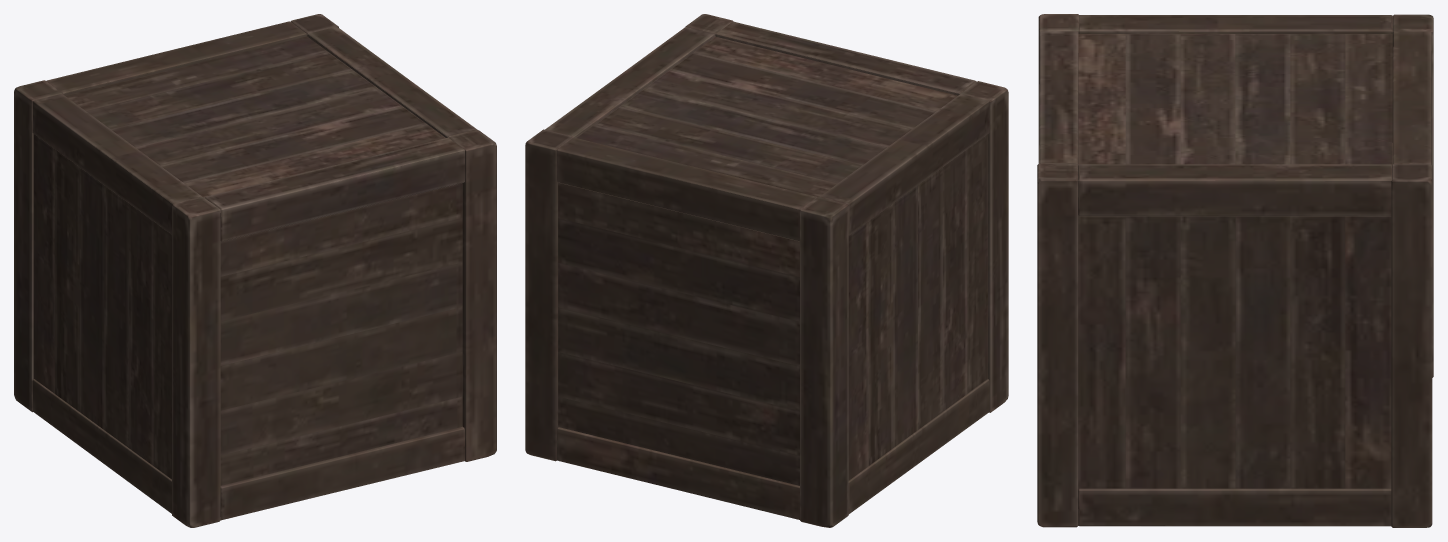
The model's file is Crate2.glb.
The picture shows the model from 3 angles, left to right: view 1: azimuth 30°, elevation 25°; view 2: azimuth 150°, elevation 25°; view 3: azimuth 270°, elevation 25°; orthographic projection. The views are drawn at different scales.
Parts seen in each view (by area): view 1: Crate2; view 2: Crate2; view 3: Crate2.
Part boxes in pixels (x1,y1,x2,y2): Crate2: (14, 14, 496, 527); Crate2: (525, 14, 1008, 527); Crate2: (1037, 14, 1433, 527).
Size of the model in its own units: 0.7492 by 0.7258 by 0.7492.
1 material, 1 textured.
